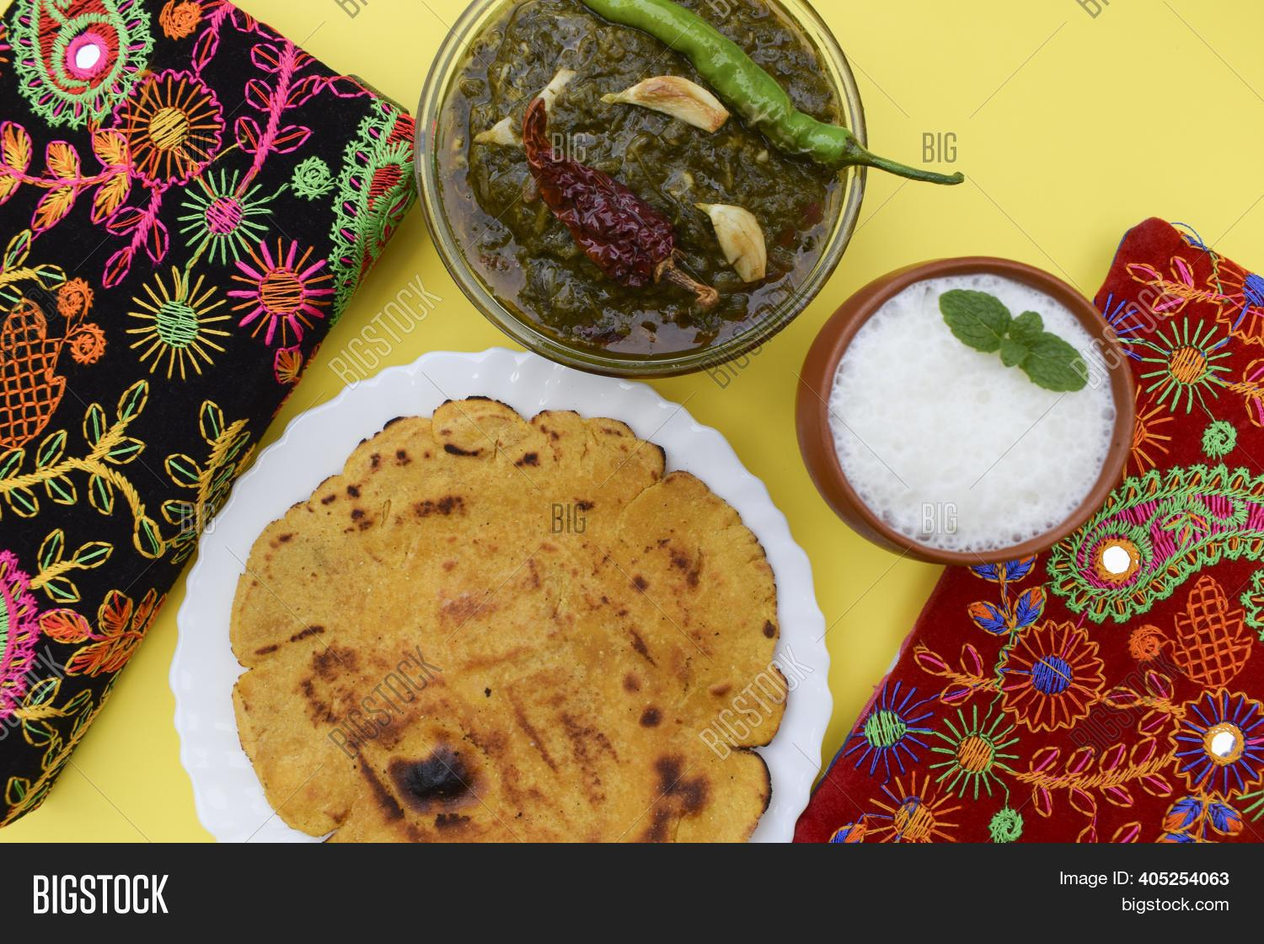saag: (452, 0, 850, 341)
